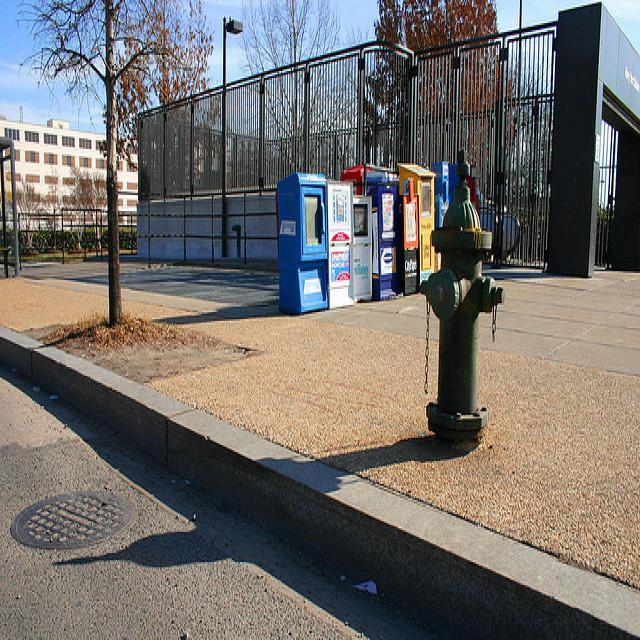fire_hydrant: (419, 150, 505, 440)
